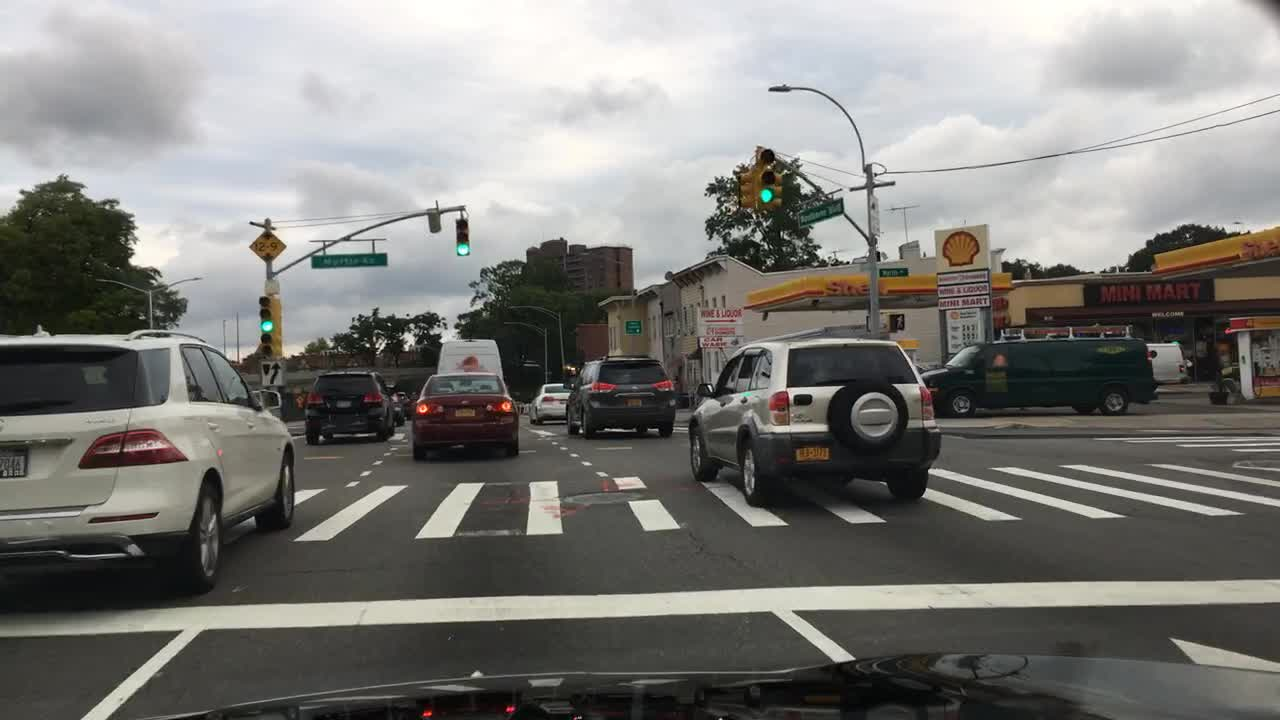car: (0, 330, 296, 596), (686, 337, 943, 506), (922, 337, 1156, 414), (564, 355, 677, 434), (412, 375, 519, 457), (304, 368, 395, 444), (529, 381, 578, 427), (1146, 342, 1187, 384), (387, 386, 405, 425), (397, 389, 409, 411)
traffic light: (757, 145, 774, 214), (451, 220, 469, 255), (259, 296, 275, 331), (739, 171, 752, 209), (776, 167, 785, 207), (887, 311, 904, 331), (260, 337, 275, 358), (626, 317, 639, 333)
traffic sign: (796, 196, 848, 226), (307, 251, 387, 268), (246, 229, 285, 262), (262, 361, 282, 389), (880, 267, 909, 278)
truck: (434, 336, 506, 385)
